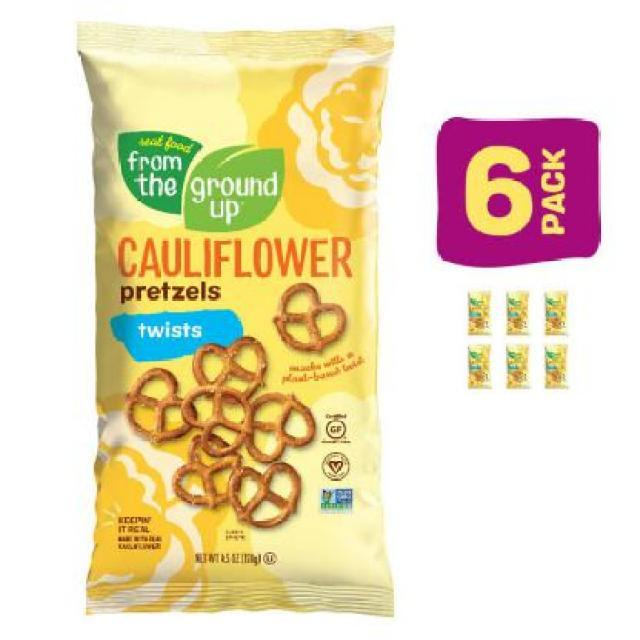Salatini: (68, 16, 404, 624)
